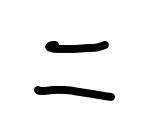eqv: (25, 36, 121, 105)
